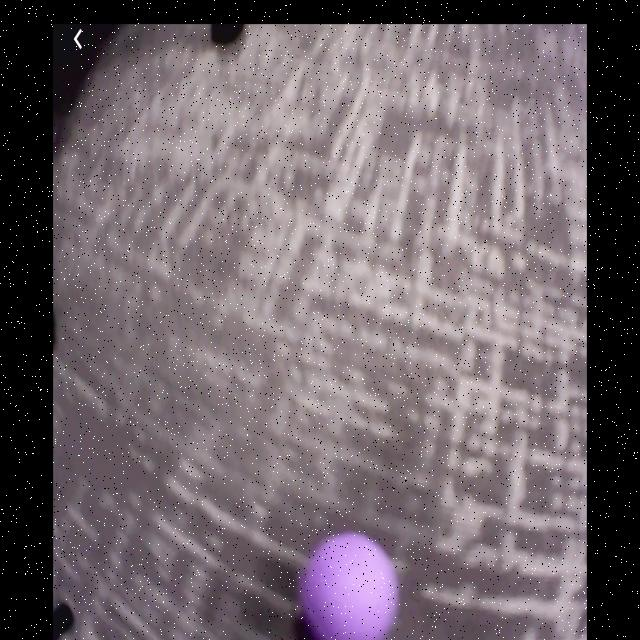ball: (305, 532, 399, 640)
